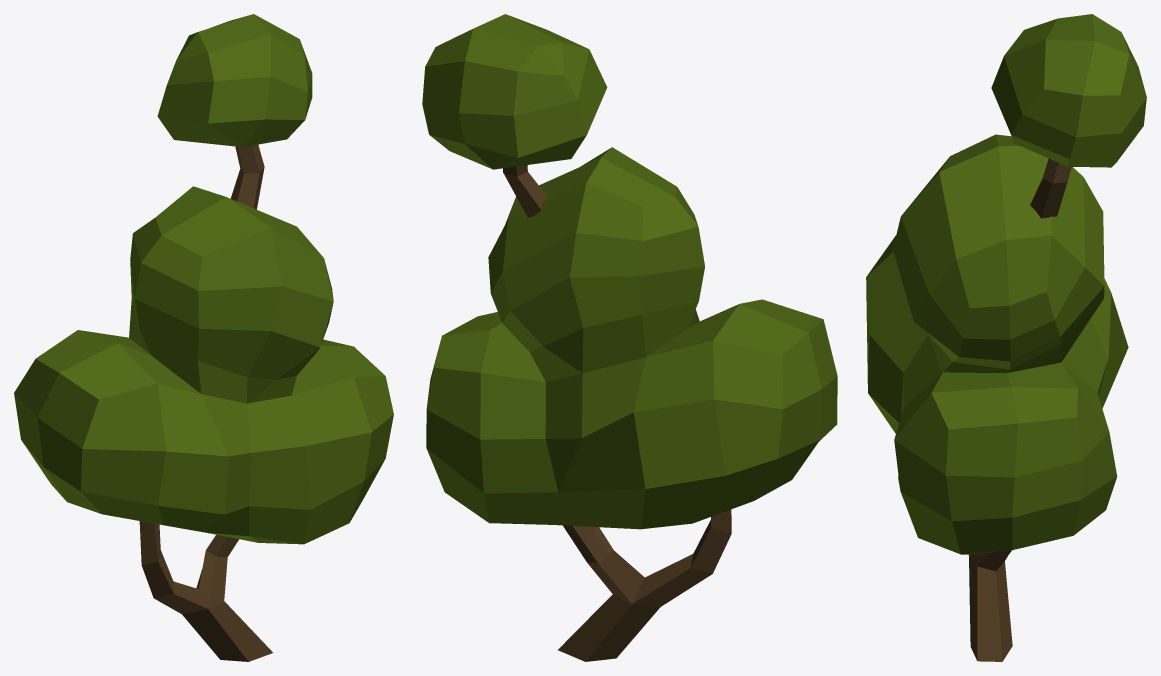
Rendered from TreesAndBushes_073.fbx.
The picture shows the model from 3 angles, left to right: view 1: azimuth 30°, elevation 25°; view 2: azimuth 150°, elevation 25°; view 3: azimuth 270°, elevation 25°; orthographic projection. The views are drawn at different scales.
Visible parts, largest first — view 1: TreesAndBushes_073; view 2: TreesAndBushes_073; view 3: TreesAndBushes_073.
Part boxes in pixels (x1,y1,x2,y2): TreesAndBushes_073: (14, 14, 393, 661); TreesAndBushes_073: (422, 14, 837, 661); TreesAndBushes_073: (866, 14, 1146, 661).
Size of the model in its own units: 150 by 246 by 97.81.
